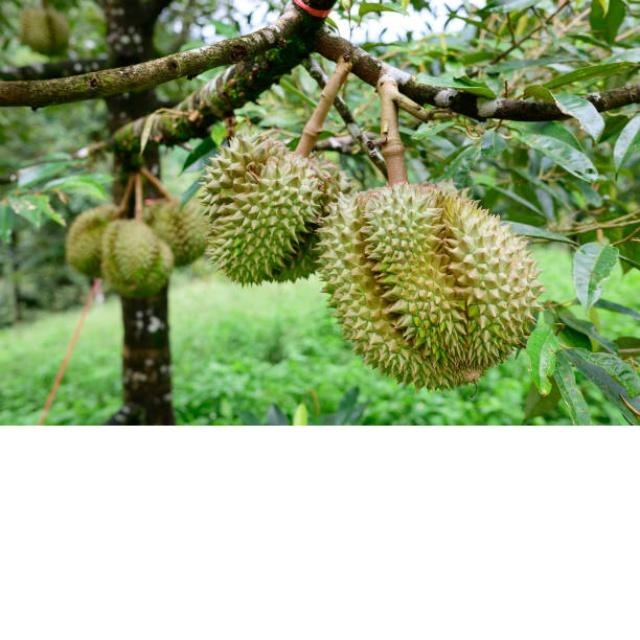sau_rieng: (318, 172, 543, 389), (197, 134, 344, 287)
